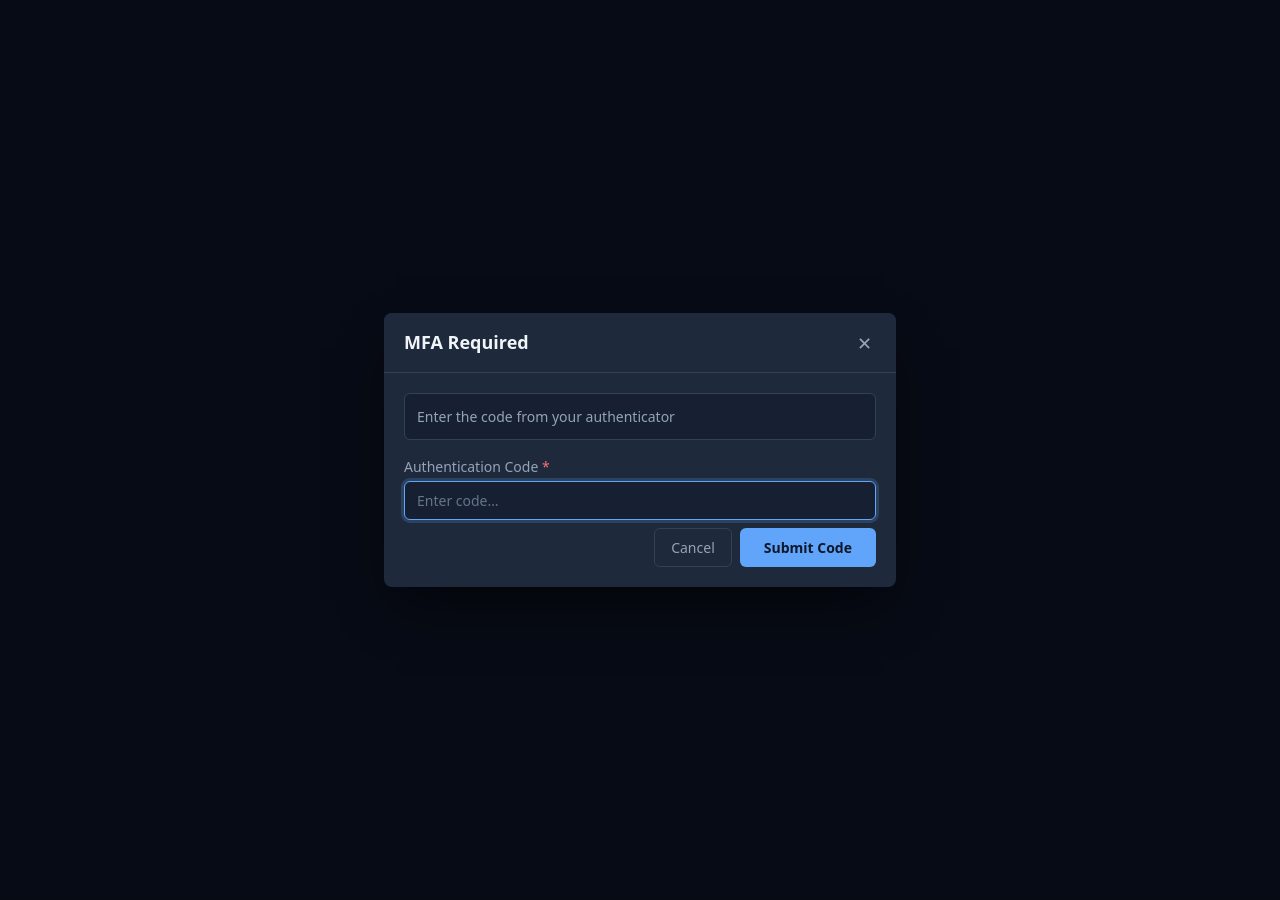
MfaModal › interactions › shows validation error when submitting empty code
Click the button "Submit Code".
click(808, 548)  # box [740, 528, 876, 567]
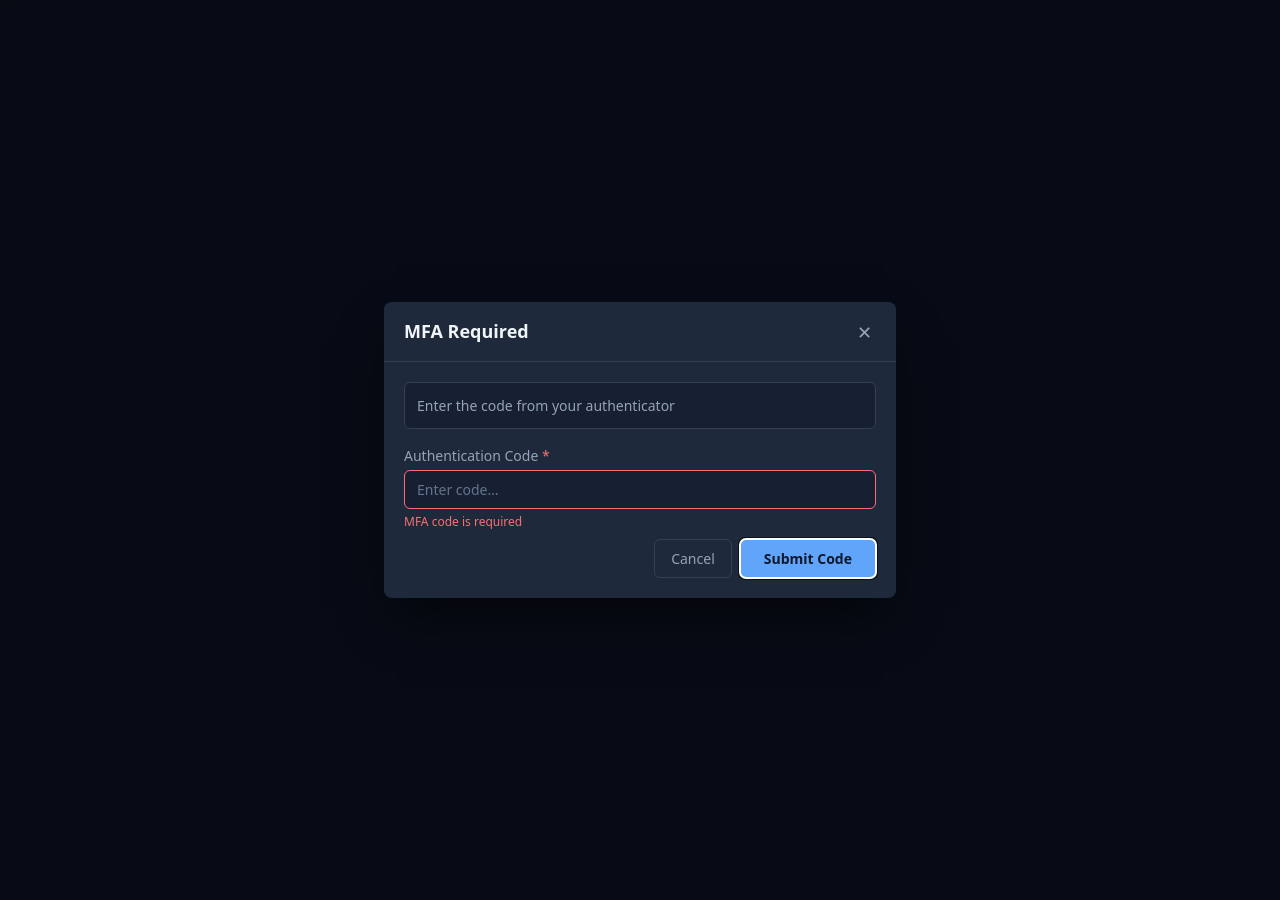
Expected: the text "MFA code is required" is shown, [404, 513, 522, 530]
